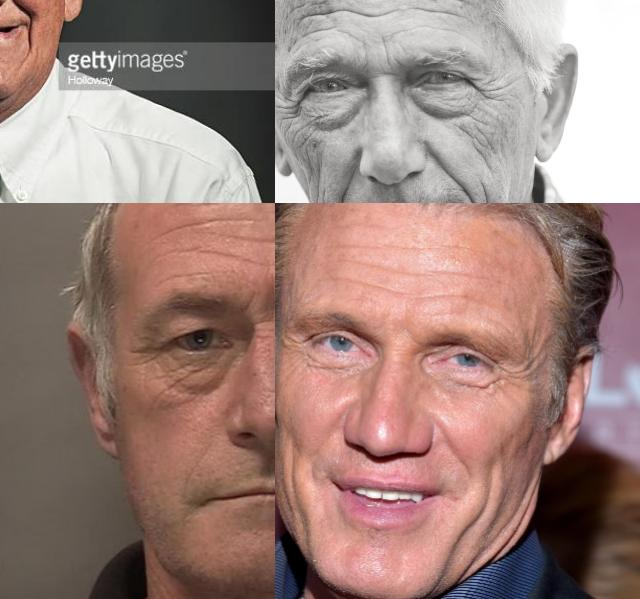crows_feet: (277, 328, 309, 376), (496, 357, 530, 399), (275, 89, 300, 129), (130, 339, 168, 365), (468, 77, 504, 101)
forehead: (342, 255, 406, 305), (289, 0, 342, 33), (419, 0, 473, 24), (430, 274, 468, 308), (350, 0, 408, 22), (175, 210, 225, 234), (205, 245, 255, 267), (232, 225, 270, 253), (159, 266, 201, 284)
frown_line: (376, 38, 398, 68), (257, 292, 275, 327)
gummy_smile: (431, 424, 473, 472), (428, 146, 462, 184), (337, 175, 354, 203), (7, 0, 31, 17)
masseter: (451, 490, 495, 552), (506, 484, 538, 548), (279, 442, 303, 518), (303, 148, 332, 203), (464, 123, 498, 166), (479, 180, 493, 203)
sad_smile: (21, 22, 37, 56)
